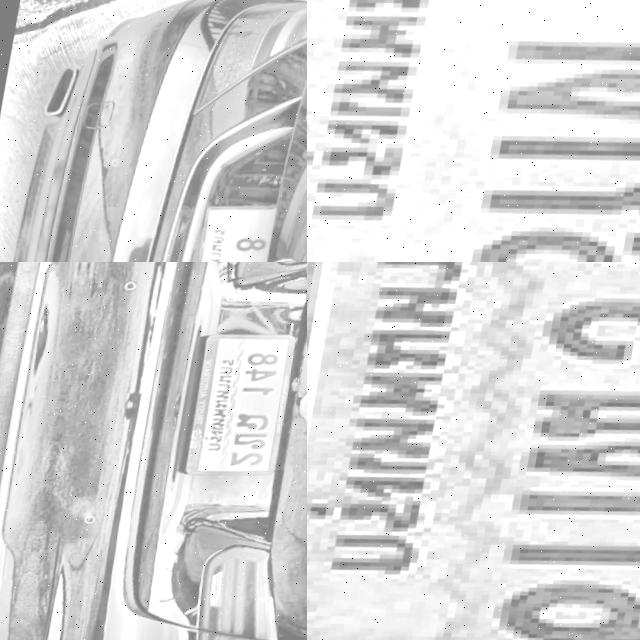license-plate: (307, 262, 640, 640), (307, 0, 640, 262), (182, 329, 307, 489), (178, 199, 291, 262)
